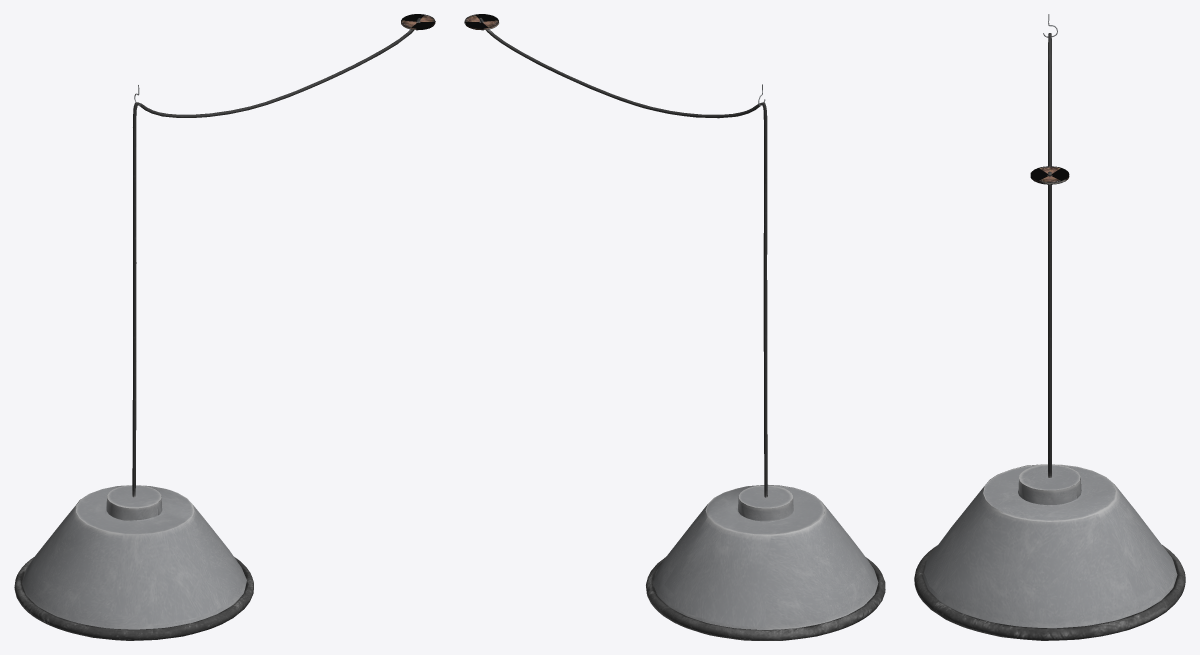
Rendered from lamp.obj.
3 views of the same model, side by side, from view 1: azimuth 30°, elevation 25°; view 2: azimuth 150°, elevation 25°; view 3: azimuth 270°, elevation 25° (orthographic). The views are drawn at different scales.
Visible parts, largest first — view 1: Lamp_Blockout_v1:pTorus1_Rubber_rim_0_Lamp_Blockout_v1:pTorus1_R; view 2: Lamp_Blockout_v1:pTorus1_Rubber_rim_0_Lamp_Blockout_v1:pTorus1_R; view 3: Lamp_Blockout_v1:pTorus1_Rubber_rim_0_Lamp_Blockout_v1:pTorus1_R.
Boxes of the visible parts, x1=… form: Lamp_Blockout_v1:pTorus1_Rubber_rim_0_Lamp_Blockout_v1:pTorus1_R: x1=14, y1=14, x2=435, y2=640; Lamp_Blockout_v1:pTorus1_Rubber_rim_0_Lamp_Blockout_v1:pTorus1_R: x1=464, y1=14, x2=885, y2=640; Lamp_Blockout_v1:pTorus1_Rubber_rim_0_Lamp_Blockout_v1:pTorus1_R: x1=914, y1=14, x2=1185, y2=640.
Size of the model in its own units: 1.26 by 1.51 by 0.6485.
